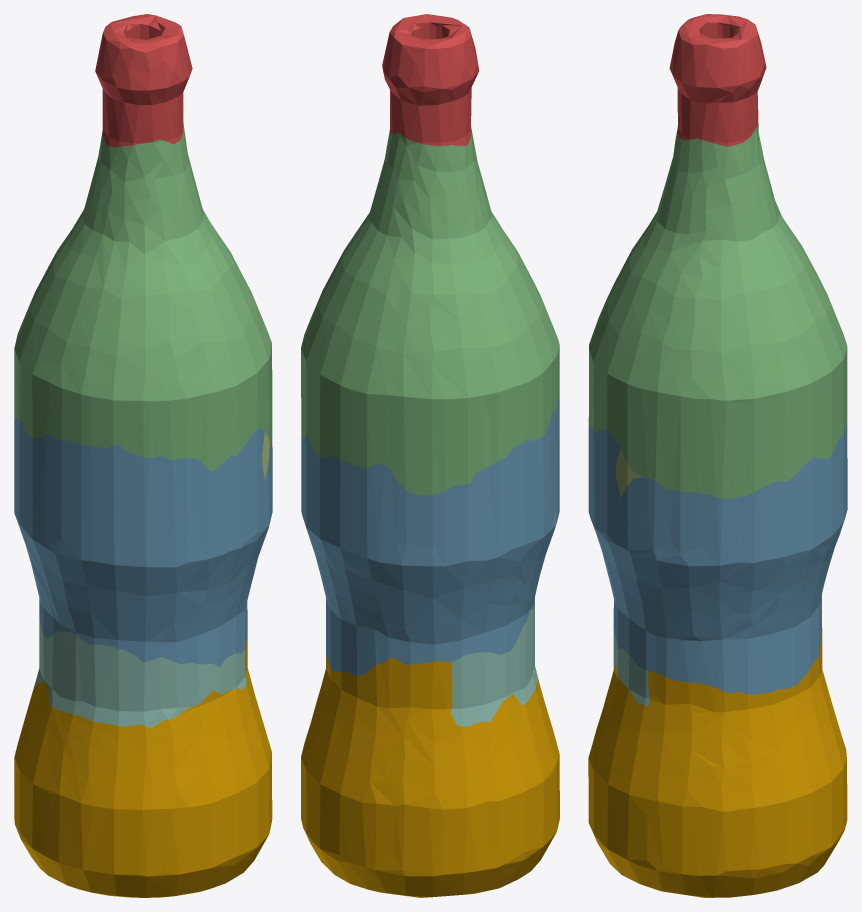
Rendered from fractured_25_6pcs.glb.
The picture shows the model from 3 angles, left to right: view 1: azimuth 30°, elevation 25°; view 2: azimuth 150°, elevation 25°; view 3: azimuth 270°, elevation 25°; orthographic projection.
Parts seen in each view (by area): view 1: piece_3.obj, piece_2.obj, piece_0.obj, piece_4.obj, piece_1.obj; view 2: piece_3.obj, piece_0.obj, piece_2.obj, piece_1.obj, piece_4.obj; view 3: piece_3.obj, piece_0.obj, piece_2.obj, piece_1.obj, piece_4.obj, piece_5.obj.
Part boxes in pixels (x1,y1,x2,y2): piece_3.obj: [14, 124, 272, 470]; piece_2.obj: [14, 416, 272, 667]; piece_0.obj: [14, 640, 272, 897]; piece_4.obj: [35, 618, 246, 728]; piece_1.obj: [95, 14, 192, 146]; piece_3.obj: [301, 127, 559, 495]; piece_0.obj: [301, 656, 559, 897]; piece_2.obj: [301, 397, 559, 676]; piece_1.obj: [382, 14, 479, 145]; piece_4.obj: [451, 604, 538, 726]; piece_3.obj: [588, 126, 847, 498]; piece_0.obj: [588, 629, 847, 897]; piece_2.obj: [588, 422, 847, 694]; piece_1.obj: [669, 14, 766, 146]; piece_4.obj: [613, 627, 649, 706]; piece_5.obj: [616, 448, 643, 497].
Bounding box in the file's own units: 0.2848 × 1 × 0.2847.
